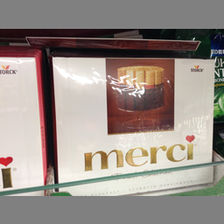chocolate: (51, 56, 215, 193)
